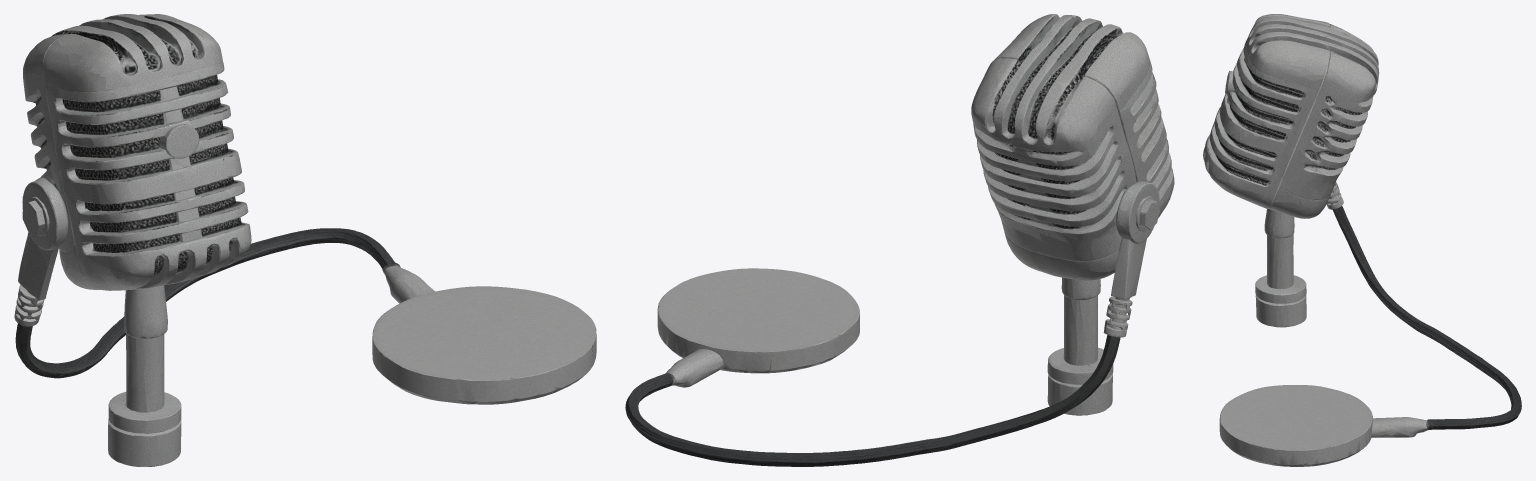
The model's file is Prop_Microphone_Vintage_01.glb.
3 views of the same model, side by side, from view 1: azimuth 30°, elevation 25°; view 2: azimuth 150°, elevation 25°; view 3: azimuth 270°, elevation 25° (orthographic). The views are drawn at different scales.
Bounding box in the file's own units: 1.9 × 1.41 × 1.39.
1 material, 1 textured.
